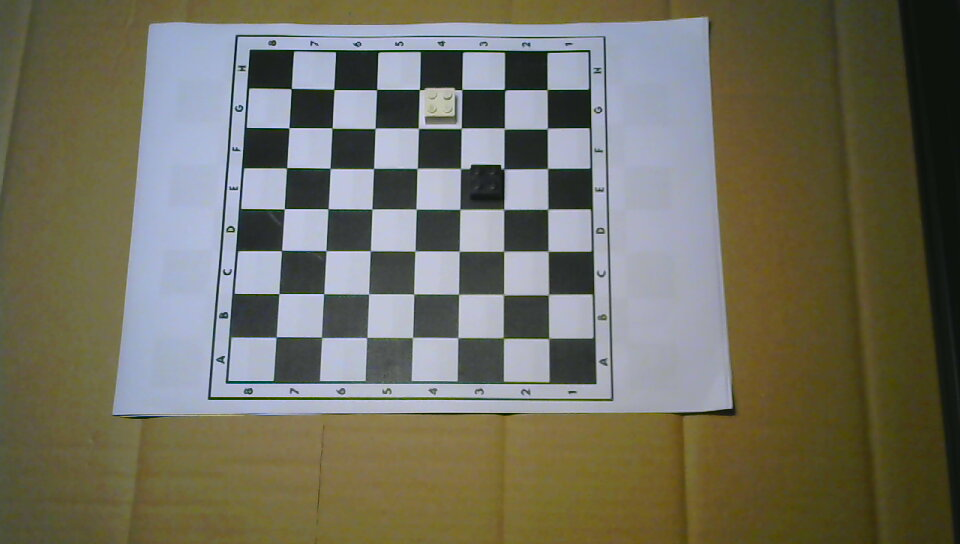bp: (469, 163, 504, 202)
wp: (423, 86, 458, 124)
